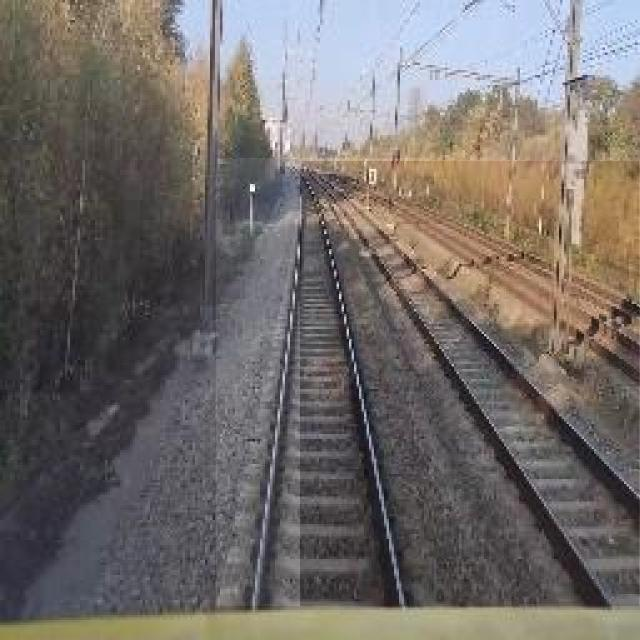rail: (302, 162, 640, 607), (218, 159, 431, 607)
